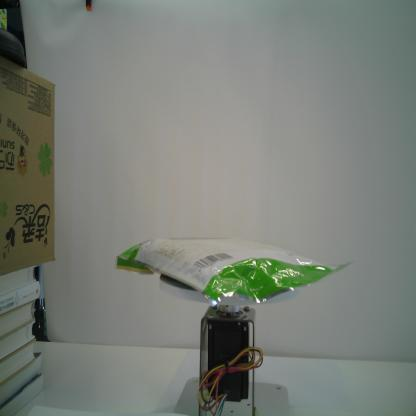Dried Food: (112, 232, 356, 311)
